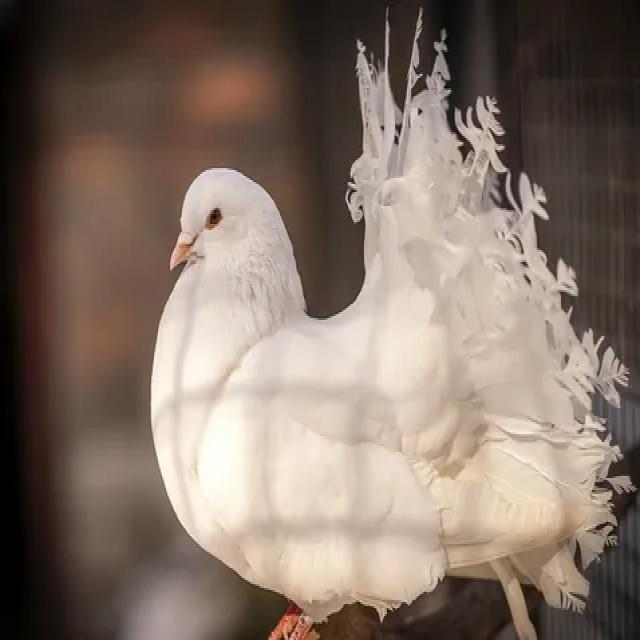pigeon: (138, 18, 640, 640)
